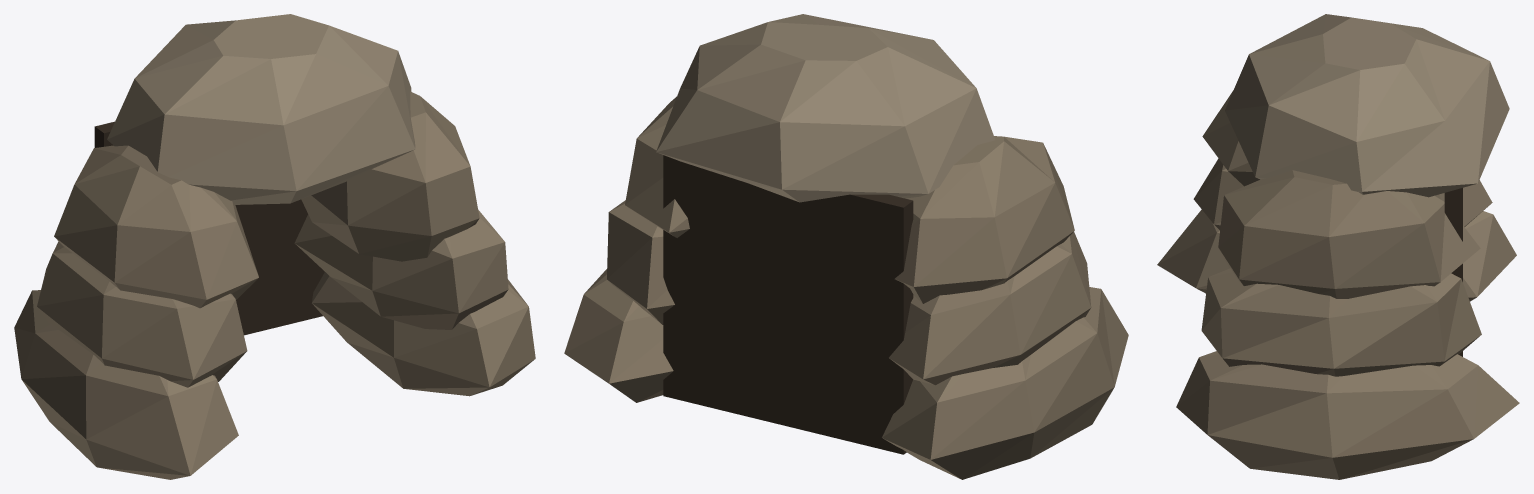
Rendered from cave.glb.
3 views of the same model, side by side, from view 1: azimuth 30°, elevation 25°; view 2: azimuth 150°, elevation 25°; view 3: azimuth 270°, elevation 25° (orthographic). The views are drawn at different scales.
Parts seen in each view (by area): view 1: cave; view 2: cave; view 3: cave.
Part boxes in pixels (x1,y1,x2,y2): cave: (14, 14, 535, 479); cave: (564, 14, 1128, 479); cave: (1157, 14, 1519, 479).
Bounding box in the file's own units: 1.13 × 0.8249 × 0.7921.
